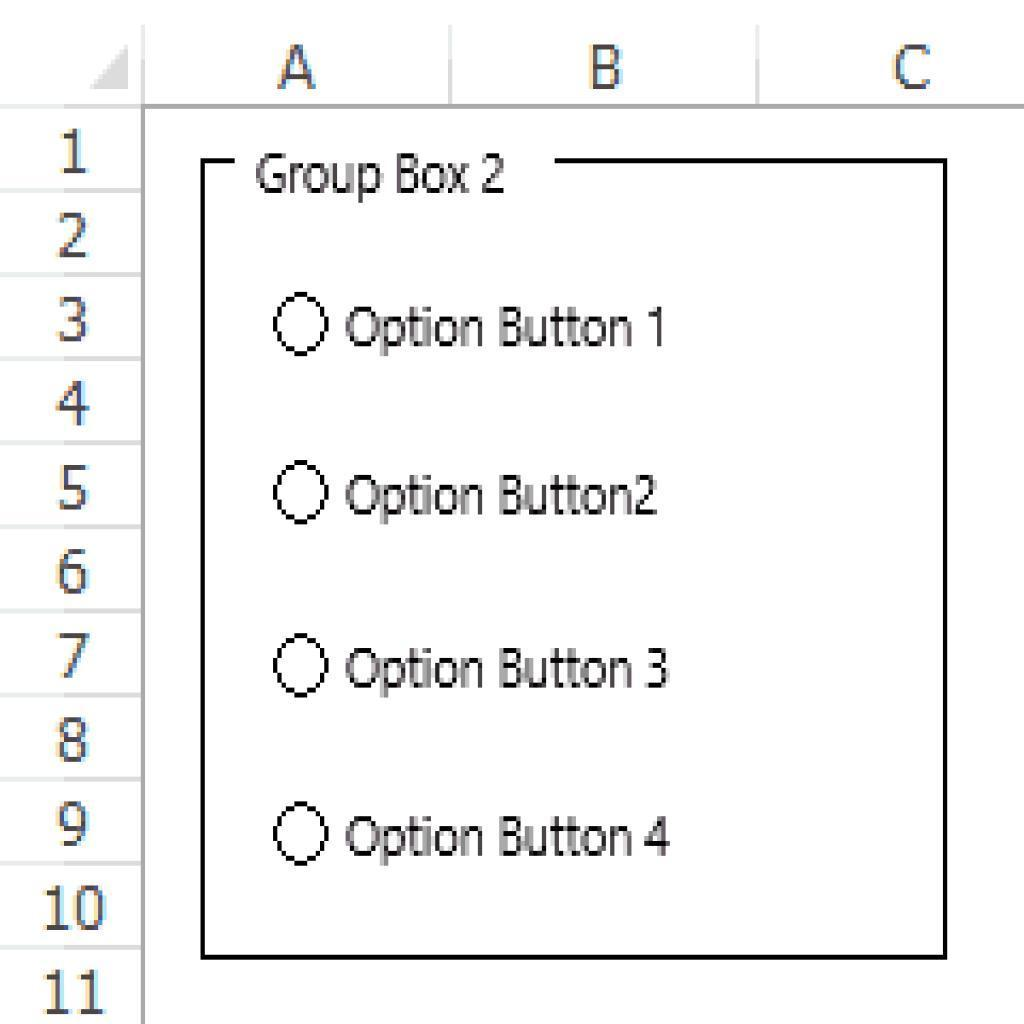label: (341, 807, 679, 870), (344, 640, 678, 702), (344, 300, 672, 361), (342, 468, 667, 528), (254, 150, 512, 205)
radio: (270, 630, 334, 703), (271, 797, 332, 869), (271, 459, 332, 529), (270, 289, 331, 358)
